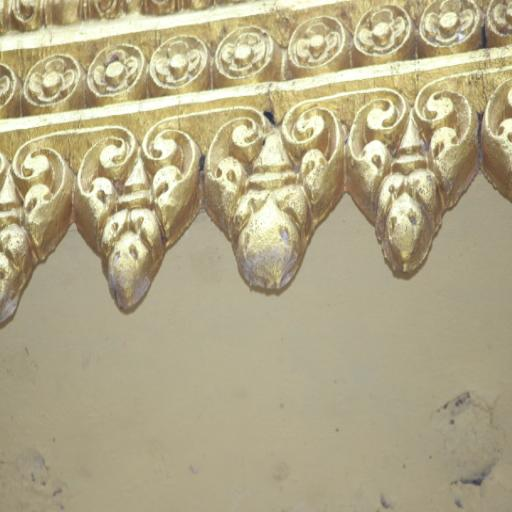hoa: (25, 45, 84, 112), (290, 15, 350, 78), (86, 40, 148, 98), (149, 39, 212, 92), (219, 28, 276, 82), (354, 10, 413, 57), (422, 4, 484, 48)
la: (207, 116, 348, 294), (350, 99, 475, 287), (78, 131, 194, 315), (0, 138, 64, 333)
